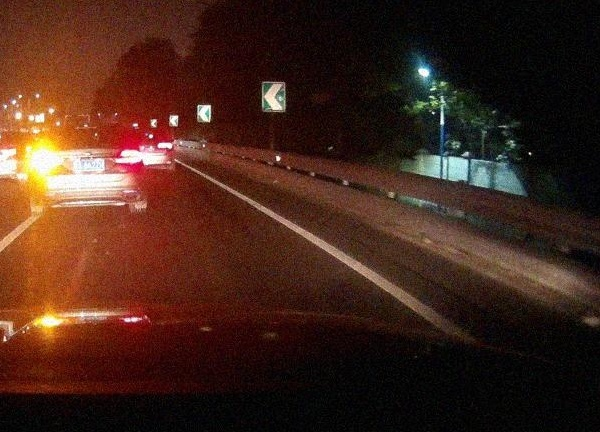L_light: (37, 152, 65, 171)
R_light: (114, 147, 146, 165)
T_light: (77, 129, 99, 134)
night-left: (31, 124, 149, 216)
